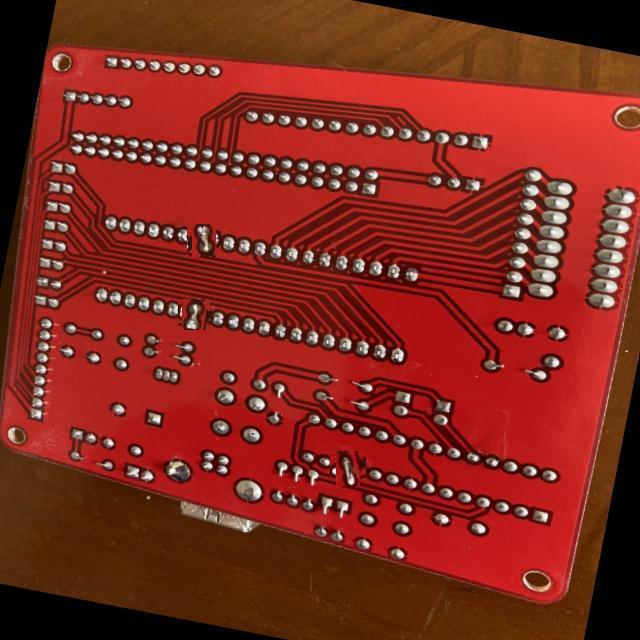damged: (334, 453, 364, 483), (190, 226, 218, 254), (180, 300, 208, 328)
